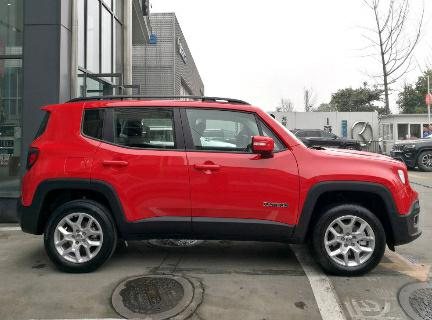Jeep-自由侠: (17, 95, 425, 278)
